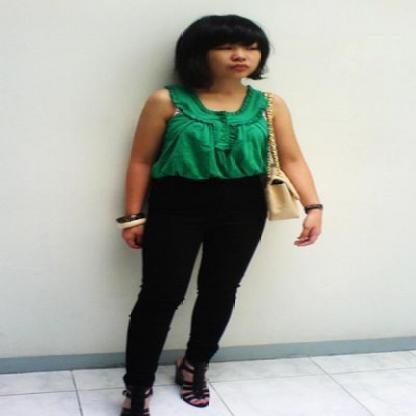bag: (266, 162, 298, 220)
pants: (123, 168, 283, 384)
shirt: (148, 78, 272, 180)
shoe: (121, 350, 210, 416)
